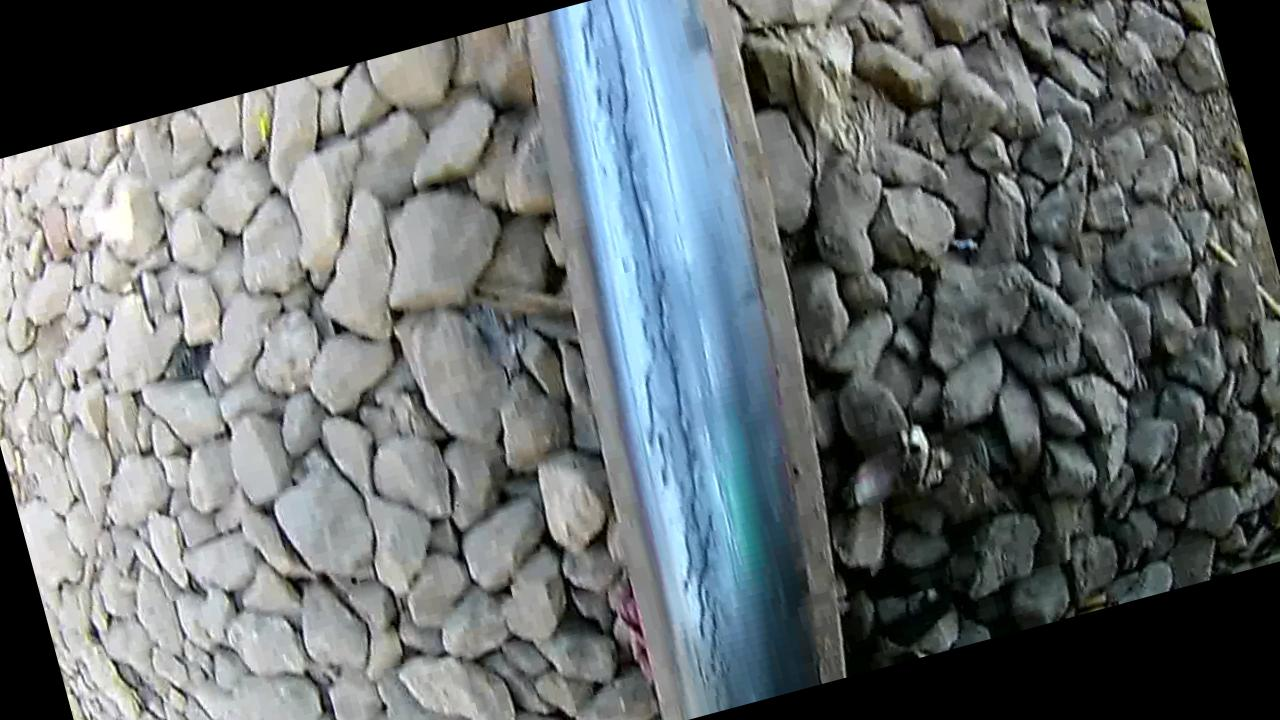normal_track: (522, 0, 821, 715)
